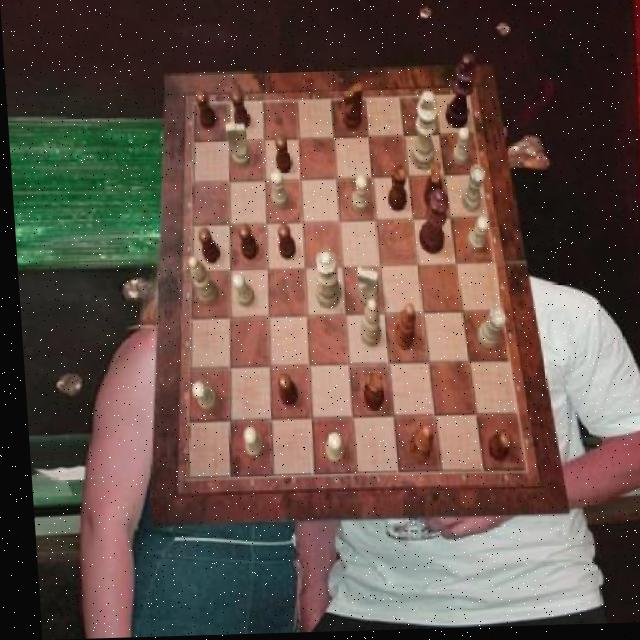bishop: (388, 306, 413, 352), (402, 426, 428, 465)
black-bishop: (441, 57, 478, 132)
black-king: (418, 164, 441, 212), (339, 85, 363, 131)
black-knight: (194, 92, 215, 133), (481, 434, 507, 467), (195, 229, 217, 266), (229, 91, 248, 130), (271, 375, 293, 408), (236, 225, 255, 262), (274, 226, 293, 262), (273, 137, 291, 175)
black-pawn: (412, 191, 448, 257)
black-queen: (383, 166, 406, 213), (357, 373, 379, 414)
black-rook: (183, 257, 215, 309), (353, 301, 376, 349)
white-bishop: (405, 93, 439, 172)
white-king: (224, 124, 249, 170), (352, 270, 375, 311)
white-knight: (462, 219, 486, 255), (448, 129, 469, 170), (186, 382, 213, 413), (228, 273, 250, 308), (347, 178, 366, 216), (266, 172, 285, 210), (237, 428, 258, 460), (318, 434, 337, 466)
white-pawn: (309, 252, 338, 311)
white-queen: (471, 310, 504, 353), (456, 169, 483, 216)
